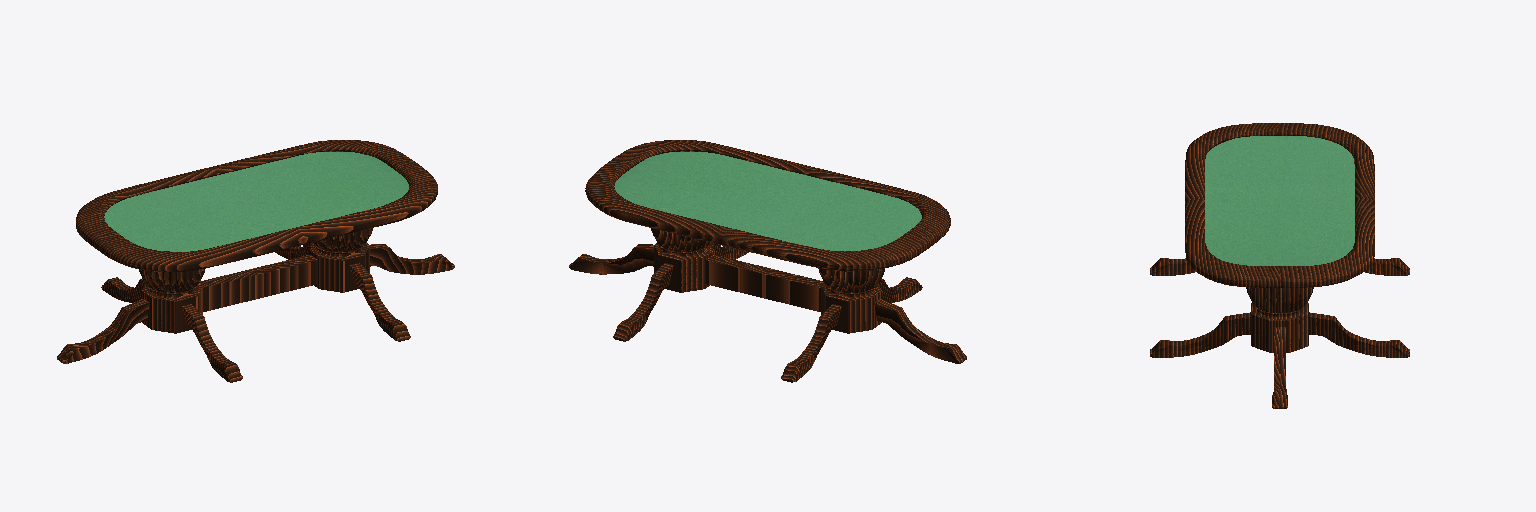
The picture shows the model from 3 angles: view 1: azimuth 30°, elevation 25°; view 2: azimuth 150°, elevation 25°; view 3: azimuth 270°, elevation 25°; orthographic projection.
Parts seen in each view (by area): view 1: nurbsToPoly81 group1, group1 nurbsToPoly2, nurbsToPoly1, group4 nurbsToPoly6, group4 group5 nurbsToPoly88, group4 group5 nurbsToPoly100, group4 nurbsToPoly18, group4 nurbsToPoly43, nurbsToPoly27 group4, group4 nurbsToPoly82 group5, group4 nurbsToPoly105, group4 nurbsToPoly25; view 2: nurbsToPoly81 group1, group1 nurbsToPoly2, nurbsToPoly1, group4 nurbsToPoly6, group4 group5 nurbsToPoly88, group4 nurbsToPoly18, group4 group5 nurbsToPoly102, group4 nurbsToPoly55, group4 nurbsToPoly26, group4 group5 nurbsToPoly83, group4 nurbsToPoly105; view 3: nurbsToPoly81 group1, group1 nurbsToPoly2, group4 group5 nurbsToPoly88, group4 nurbsToPoly105, group4 group5 nurbsToPoly103, group4 group5 nurbsToPoly115, group4 group5 nurbsToPoly106.
Boxes of the visible parts, box(x1,y1,x2,y2) form: nurbsToPoly81 group1: box(104, 152, 408, 251); group1 nurbsToPoly2: box(76, 140, 437, 271); nurbsToPoly1: box(199, 255, 317, 311); group4 nurbsToPoly6: box(142, 286, 202, 333); group4 group5 nurbsToPoly88: box(309, 246, 369, 292); group4 group5 nurbsToPoly100: box(370, 248, 451, 274); group4 nurbsToPoly18: box(139, 268, 205, 292); group4 nurbsToPoly43: box(67, 303, 149, 363); nurbsToPoly27 group4: box(182, 304, 241, 382); group4 nurbsToPoly82 group5: box(350, 263, 409, 341); group4 nurbsToPoly105: box(313, 228, 372, 251); group4 nurbsToPoly25: box(57, 298, 149, 362); nurbsToPoly81 group1: box(614, 152, 921, 250); group1 nurbsToPoly2: box(585, 140, 950, 271); nurbsToPoly1: box(706, 255, 824, 311); group4 nurbsToPoly6: box(821, 286, 881, 333); group4 group5 nurbsToPoly88: box(654, 246, 714, 292); group4 nurbsToPoly18: box(818, 268, 884, 292); group4 group5 nurbsToPoly102: box(572, 248, 653, 274); group4 nurbsToPoly55: box(874, 303, 956, 363); group4 nurbsToPoly26: box(782, 304, 841, 382); group4 group5 nurbsToPoly83: box(614, 263, 673, 341); group4 nurbsToPoly105: box(651, 228, 709, 251); nurbsToPoly81 group1: box(1205, 136, 1354, 265); group1 nurbsToPoly2: box(1185, 123, 1374, 287); group4 group5 nurbsToPoly88: box(1251, 314, 1308, 352); group4 nurbsToPoly105: box(1246, 287, 1313, 312); group4 group5 nurbsToPoly103: box(1155, 317, 1250, 357); group4 group5 nurbsToPoly115: box(1309, 317, 1404, 357); group4 group5 nurbsToPoly106: box(1274, 327, 1285, 408).
Size of the model in its own units: 20.25 by 5.72 by 11.61.
Materials: 38 (38 with a texture image).